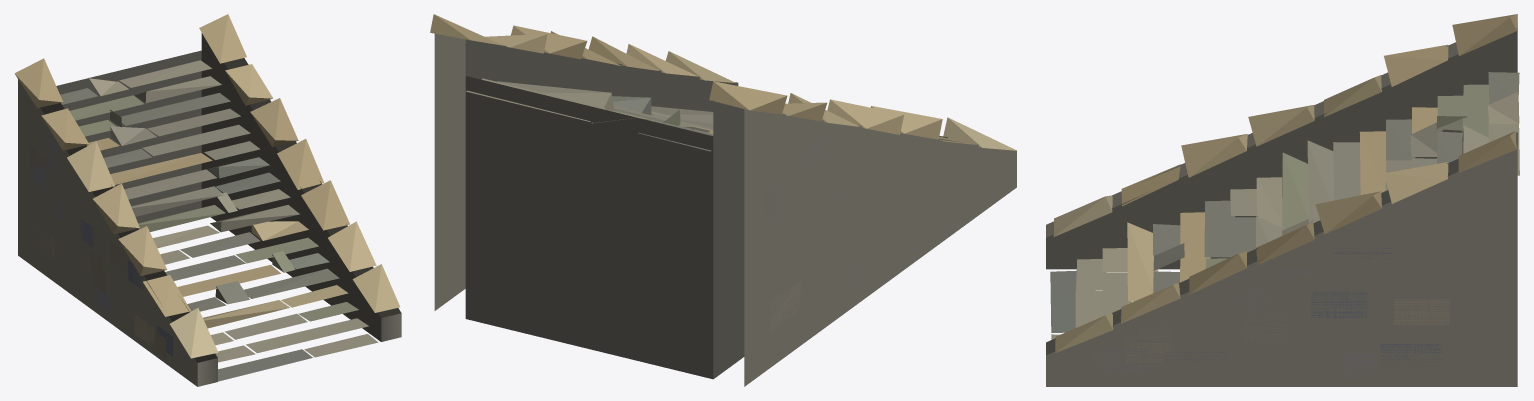
The model's file is town_stairs-lod1.glb.
3 views of the same model, side by side, from view 1: azimuth 30°, elevation 25°; view 2: azimuth 150°, elevation 25°; view 3: azimuth 270°, elevation 25° (orthographic). The views are drawn at different scales.
Parts seen in each view (by area): view 1: town_stairs; view 2: town_stairs; view 3: town_stairs.
Part boxes in pixels (box(x1,y1,x2,y2)): town_stairs: box(14, 14, 401, 386); town_stairs: box(430, 14, 1016, 386); town_stairs: box(1046, 14, 1519, 386).
Bounding box in the file's own units: 4.15 × 3.66 × 6.13.
